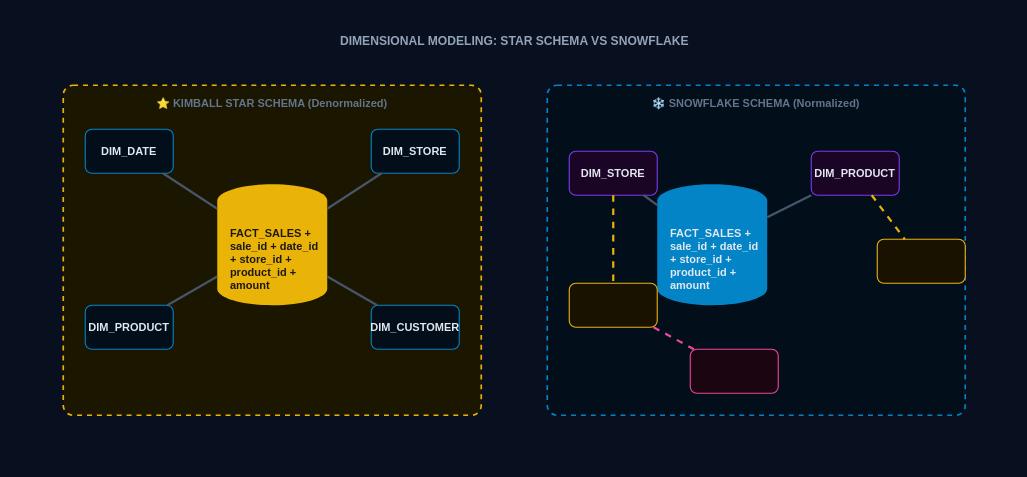
This 1027x477 diagram has some shape labels left out. Here are the shapes that lost their labels. From the top down, the centre of each, then its label:
At (920,260): "DIM_BRAND".
At (612,304): "DIM_CITY".
At (733,370): "DIM_STATE".
